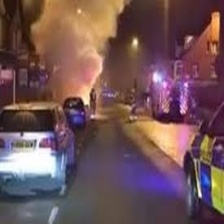smoke: (44, 1, 123, 97)
